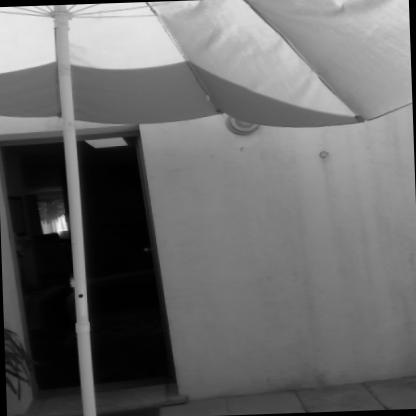open: (0, 115, 175, 412)
